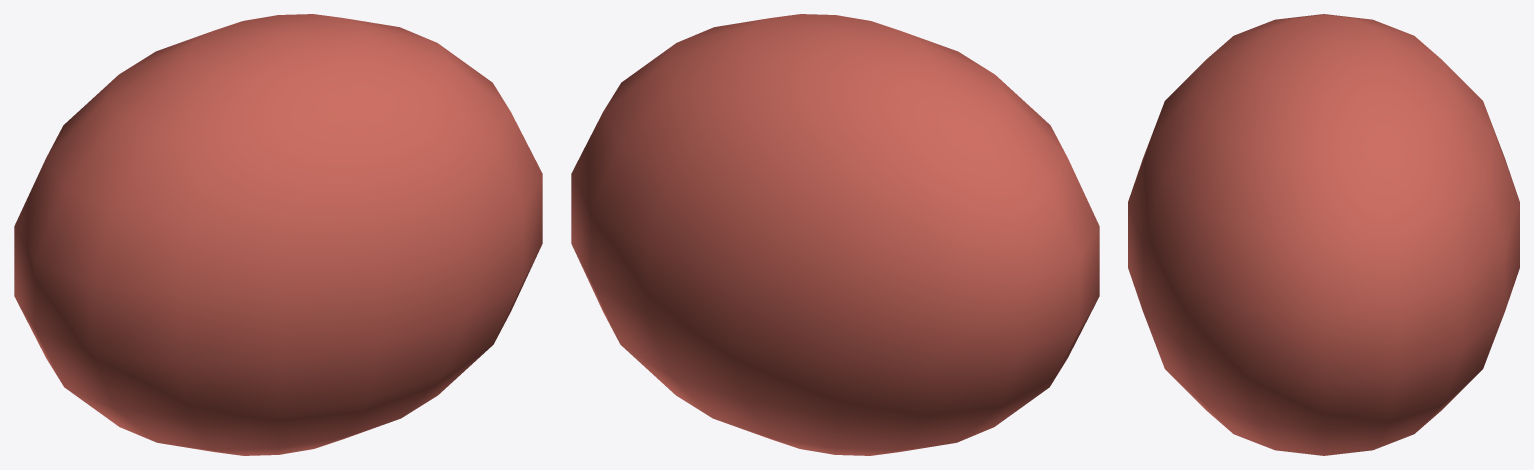
Rendered from fake_nose.glb.
The picture shows the model from 3 angles, left to right: view 1: azimuth 30°, elevation 25°; view 2: azimuth 150°, elevation 25°; view 3: azimuth 270°, elevation 25°; orthographic projection. The views are drawn at different scales.
Visible parts, largest first — view 1: fake_nose_Head; view 2: fake_nose_Head; view 3: fake_nose_Head.
Part boxes in pixels (left/top/right/bottom): fake_nose_Head: left=14, top=14, right=542, bottom=455; fake_nose_Head: left=571, top=14, right=1099, bottom=455; fake_nose_Head: left=1128, top=14, right=1519, bottom=455.
Size of the model in its own units: 0.1083 by 0.085 by 0.0788.
